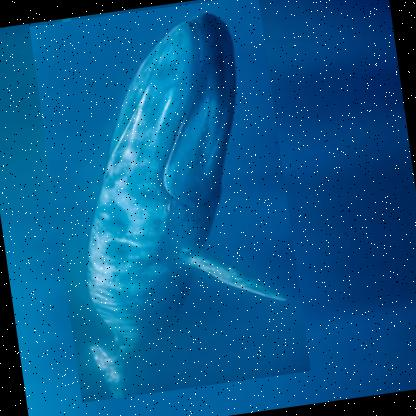blue_whale: (28, 0, 312, 404)
